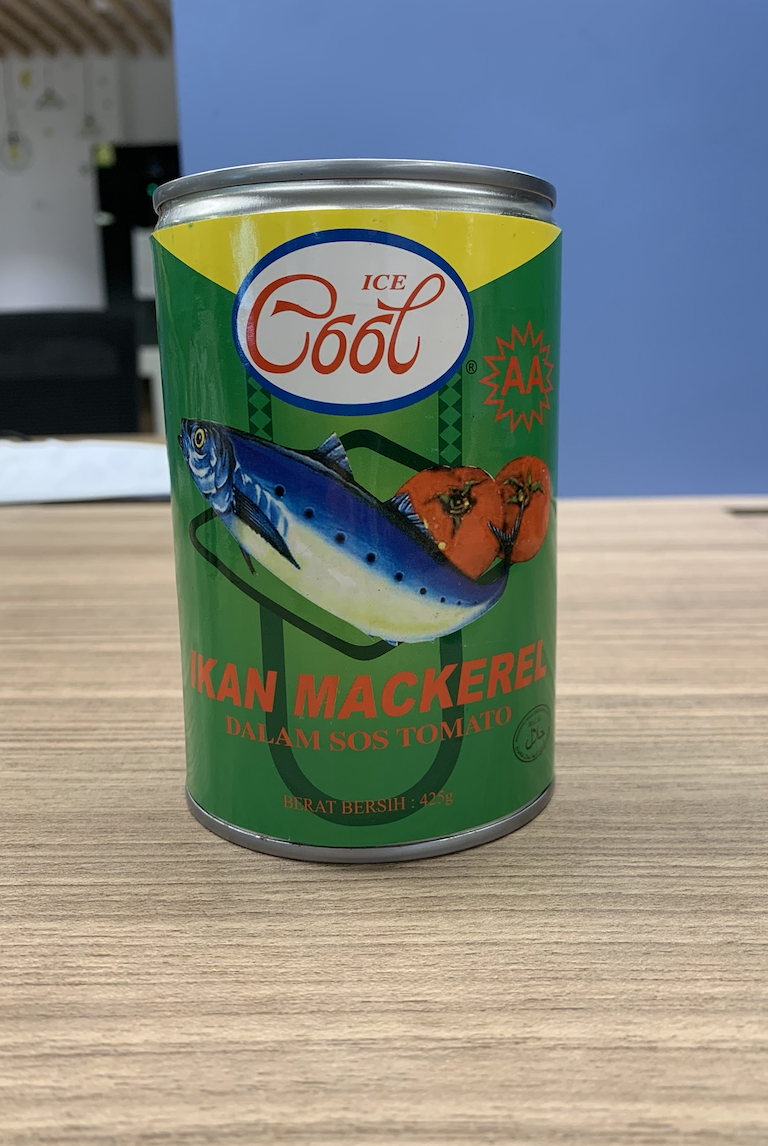sardines_400g-499g: (177, 223, 550, 824)
